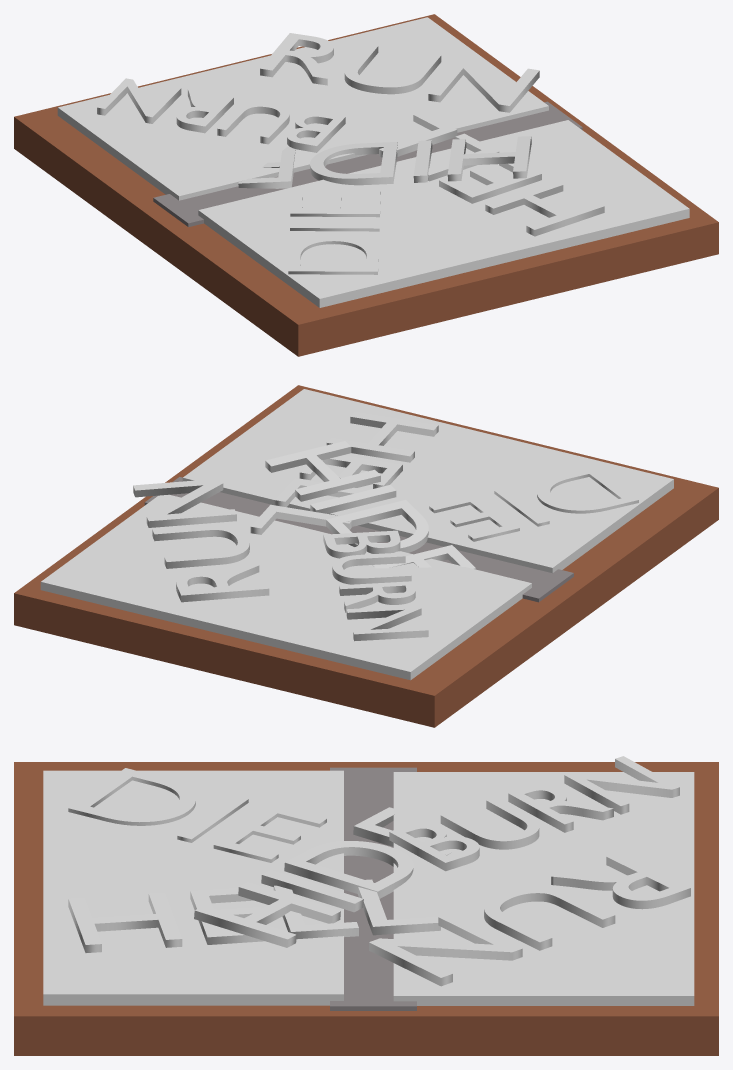
The model's file is Ghost_writing__written_2.fbx.
3 renders of one model, top to bottom at view 1: azimuth 30°, elevation 25°; view 2: azimuth 150°, elevation 25°; view 3: azimuth 270°, elevation 25°, orthographic. The views are drawn at different scales.
Visible parts, largest first — view 1: Würfel.001, Würfel.002, Würfel.003, Text.006, Text.005, Text.007, Text.004, Würfel, Text.001; view 2: Würfel.001, Würfel.003, Würfel.002, Text.006, Text.007, Text.004, Text.005, Text.001, Würfel; view 3: Würfel.001, Würfel.002, Würfel.003, Text.006, Text.004, Text.007, Würfel, Text.005, Text.001.
Boxes of the visible parts, x1,y1,x2,y2 form: Würfel.001: (14,14,718,356); Würfel.002: (198,120,689,307); Würfel.003: (57,17,548,200); Text.006: (260,33,539,112); Text.005: (379,111,604,236); Text.007: (238,136,531,188); Text.004: (97,78,345,152); Würfel: (153,101,582,227); Text.001: (288,191,380,274); Würfel.001: (14,385,718,727); Würfel.003: (40,494,531,680); Würfel.002: (182,389,673,573); Text.006: (133,478,269,602); Text.007: (265,441,475,569); Text.004: (323,530,428,641); Text.005: (250,411,438,534); Text.001: (429,467,638,541); Würfel: (144,477,573,602); Würfel.001: (14,762,718,1055); Würfel.002: (43,770,343,1005); Würfel.003: (393,772,694,1005); Text.006: (369,852,690,986); Text.004: (389,756,679,871); Text.007: (194,807,451,947); Würfel: (330,767,416,1010); Text.005: (68,879,440,952); Text.001: (68,768,326,862).
Bounding box in the file's own units: 171 × 23.09 × 200.
